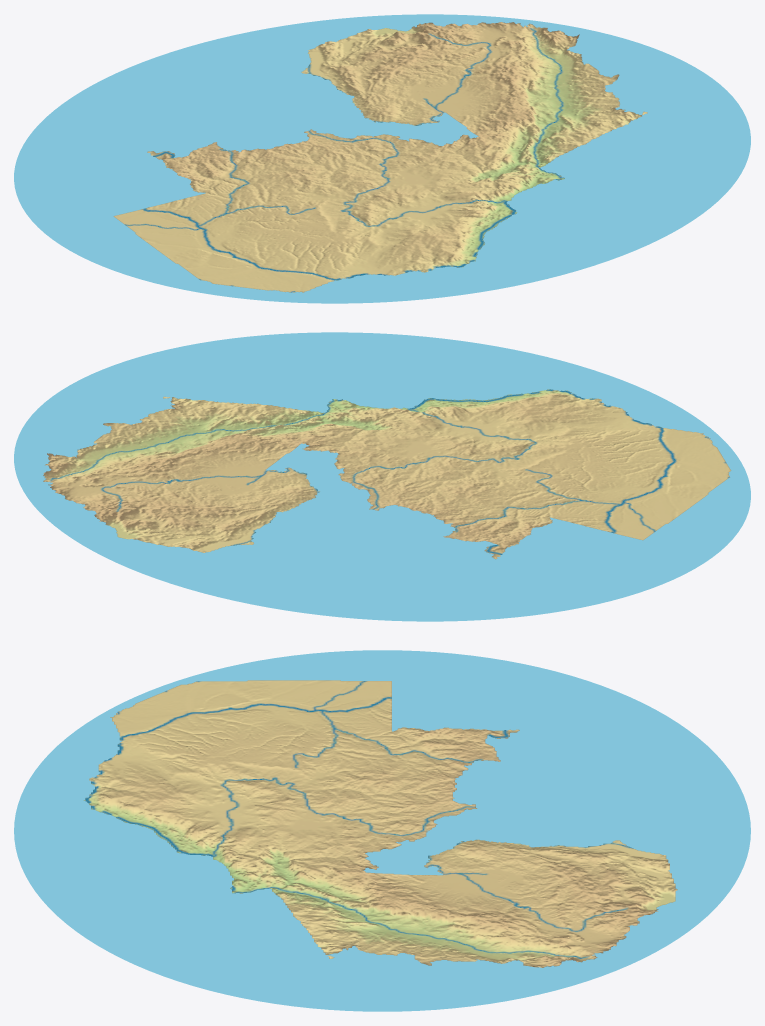
File: ZMB-terrain.glb
The picture shows the model from 3 angles, top to bottom: view 1: azimuth 30°, elevation 25°; view 2: azimuth 150°, elevation 25°; view 3: azimuth 270°, elevation 25°; orthographic projection. The views are drawn at different scales.
Parts seen in each view (by area): view 1: Relevo com hidrografia; view 2: Relevo com hidrografia; view 3: Relevo com hidrografia.
Part boxes in pixels (left/top/right/bottom): Relevo com hidrografia: left=14, top=14, right=750, bottom=303; Relevo com hidrografia: left=14, top=332, right=750, bottom=621; Relevo com hidrografia: left=14, top=650, right=750, bottom=1011.
Bounding box in the file's own units: 1.99 × 0.0283 × 1.72.
Materials: 2 (1 with a texture image).
